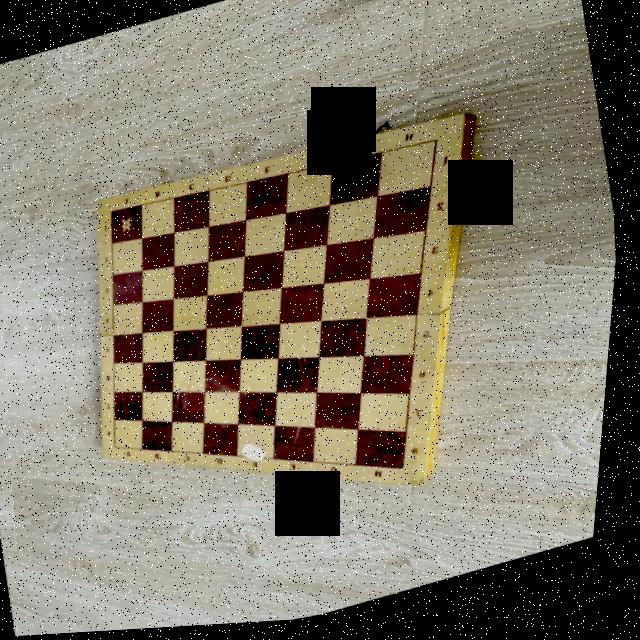chess-table-corners: (427, 138, 448, 154), (402, 467, 416, 481), (117, 446, 127, 452), (110, 210, 116, 216)
